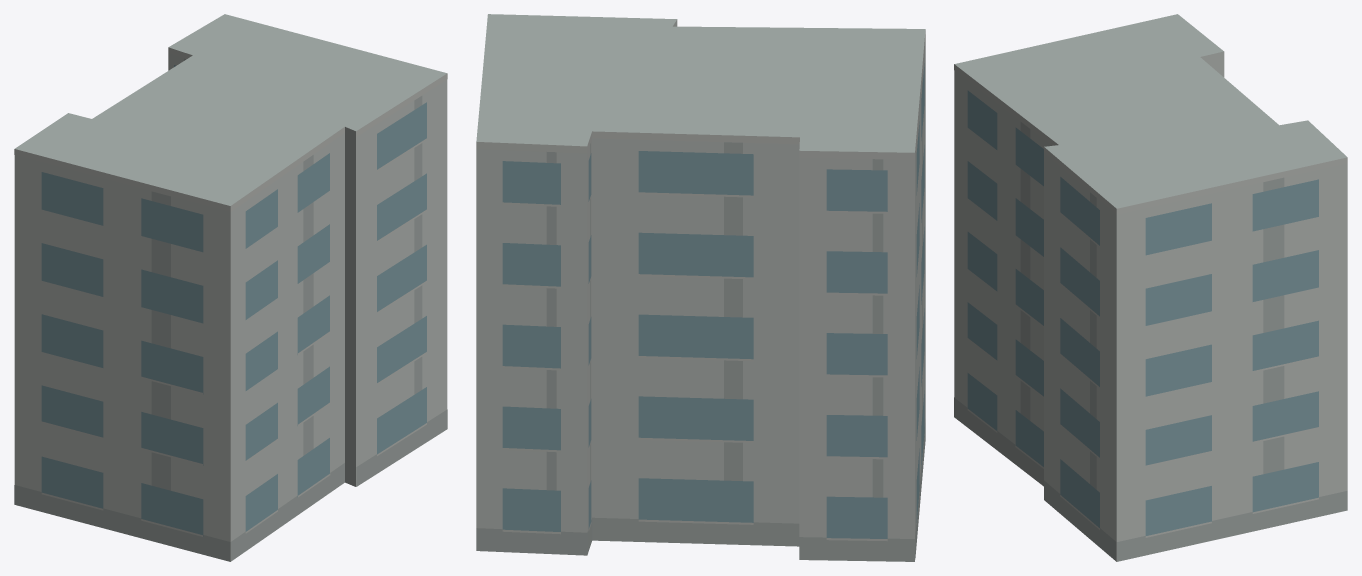
Rendered from survey-upis-32891467.glb.
The picture shows the model from 3 angles, left to right: view 1: azimuth 30°, elevation 25°; view 2: azimuth 150°, elevation 25°; view 3: azimuth 270°, elevation 25°; orthographic projection. The views are drawn at different scales.
Parts seen in each view (by area): view 1: survey-upis-32891467.tmp; view 2: survey-upis-32891467.tmp; view 3: survey-upis-32891467.tmp.
Part boxes in pixels (bbox=[...]): survey-upis-32891467.tmp: bbox=[14, 14, 447, 561]; survey-upis-32891467.tmp: bbox=[476, 14, 925, 561]; survey-upis-32891467.tmp: bbox=[954, 14, 1347, 561].
Bounding box in the file's own units: 16.69 × 14.1 × 14.25.
